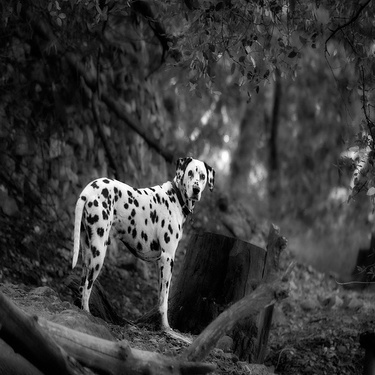dog: (58, 140, 224, 351)
